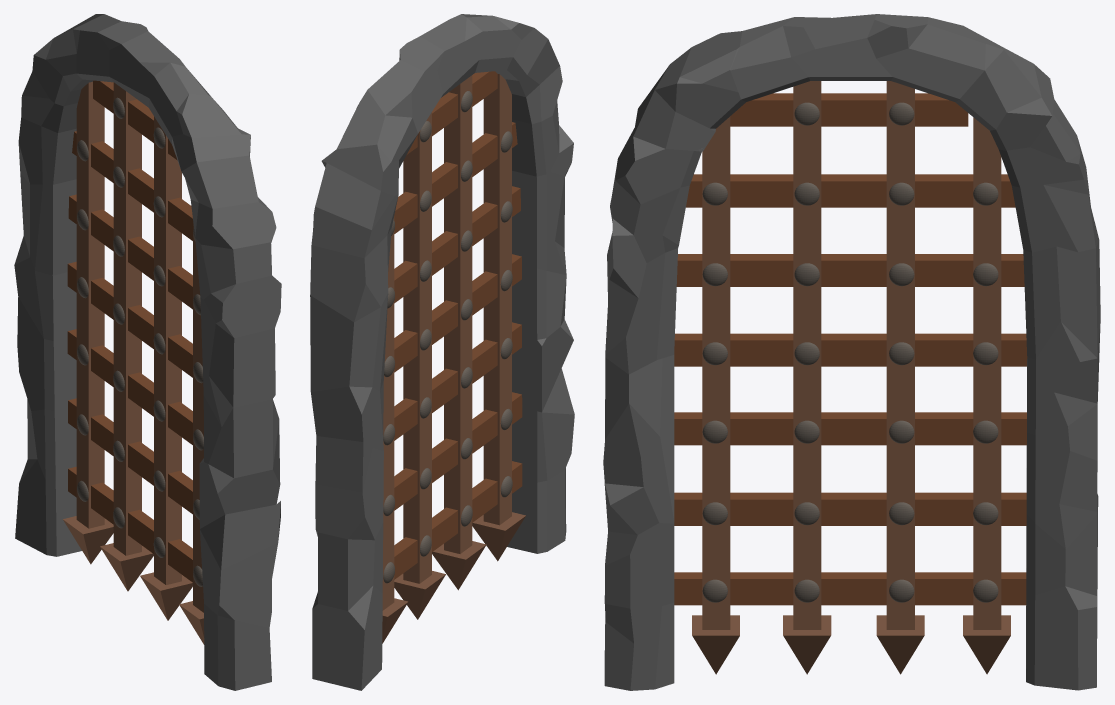
File: ruingate.fbx
3 renders of one model, left to right at view 1: azimuth 30°, elevation 25°; view 2: azimuth 150°, elevation 25°; view 3: azimuth 270°, elevation 25°, orthographic. The views are drawn at different scales.
Parts seen in each view (by area): view 1: Plane, Cone, Plane.011, Sphere; view 2: Plane, Cone, Plane.011, Sphere; view 3: Plane, Cone, Plane.011, Sphere.
Boxes of the visible parts, left/top/right/bottom form: Plane: left=14, top=14, right=281, bottom=690; Cone: left=63, top=81, right=204, bottom=644; Plane.011: left=67, top=80, right=192, bottom=582; Sphere: left=77, top=97, right=203, bottom=586; Plane: left=310, top=14, right=574, bottom=690; Cone: left=382, top=74, right=525, bottom=643; Plane.011: left=394, top=71, right=522, bottom=579; Sphere: left=383, top=91, right=512, bottom=583; Plane: left=603, top=14, right=1100, bottom=690; Cone: left=692, top=81, right=1010, bottom=674; Plane.011: left=674, top=93, right=1027, bottom=605; Sphere: left=702, top=102, right=998, bottom=602.
Bounding box in the file's own units: 61.58 × 498 × 339.
